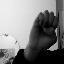e: (27, 9, 58, 49)
